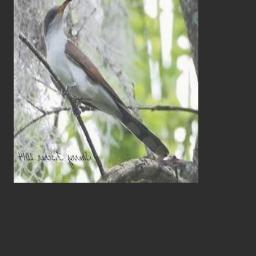Cuckoo: (44, 0, 169, 158)
